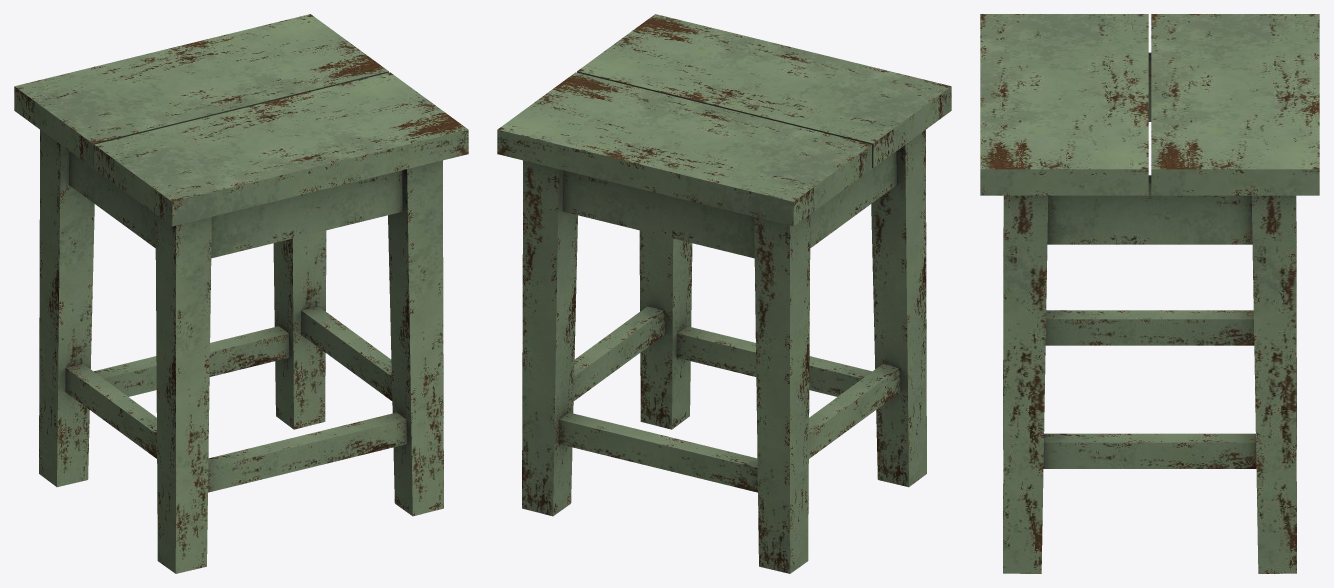
Rendered from stool_green_web.glb.
3 renders of one model, left to right at view 1: azimuth 30°, elevation 25°; view 2: azimuth 150°, elevation 25°; view 3: azimuth 270°, elevation 25°, orthographic. The views are drawn at different scales.
Parts seen in each view (by area): view 1: StoolGreen_Mesh; view 2: StoolGreen_Mesh; view 3: StoolGreen_Mesh.
Part boxes in pixels (x1,y1,x2,y2): StoolGreen_Mesh: (14,14,468,573); StoolGreen_Mesh: (497,14,951,573); StoolGreen_Mesh: (980,14,1319,573).
Size of the model in its own units: 0.38 by 0.4704 by 0.351.
1 material, 1 textured.
